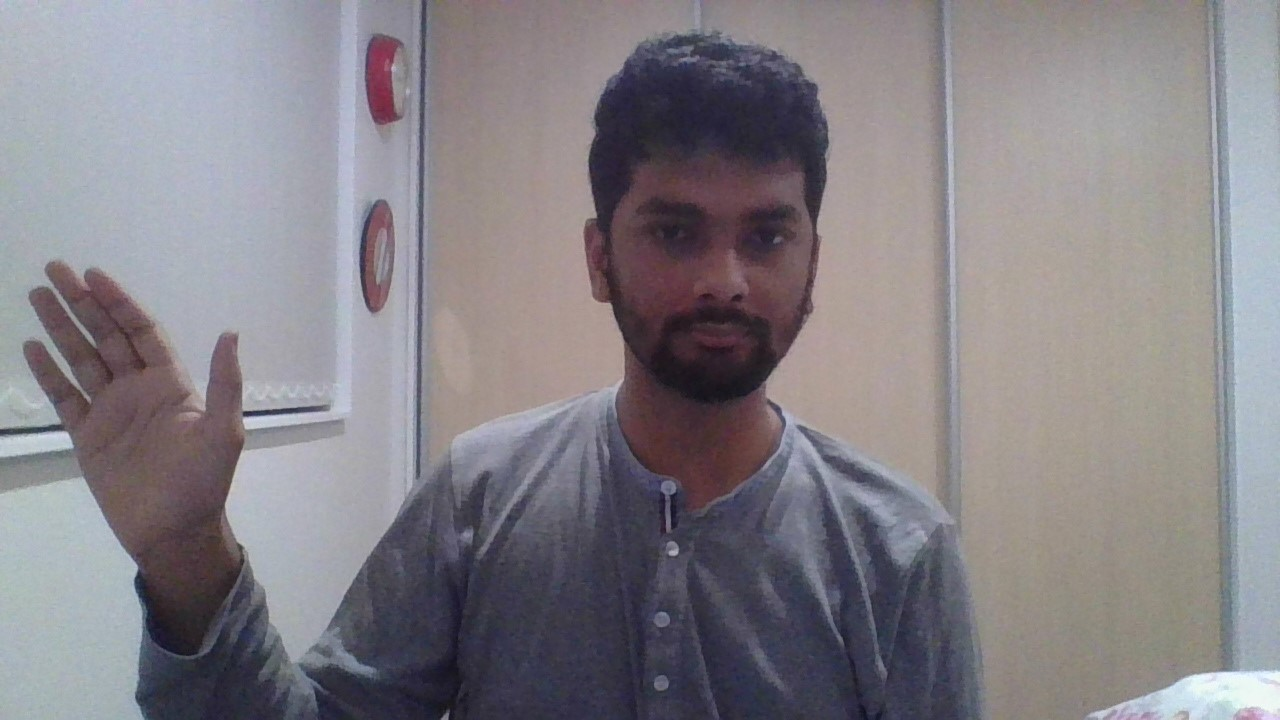hello: (23, 258, 245, 555)
